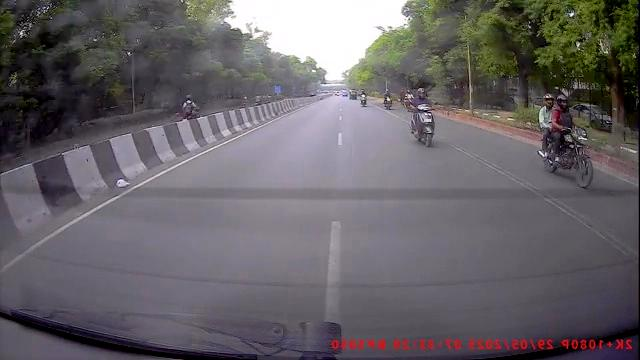motorcycle_with_helmet: (409, 86, 437, 149)
passenger_with_helmet: (539, 86, 596, 190)
